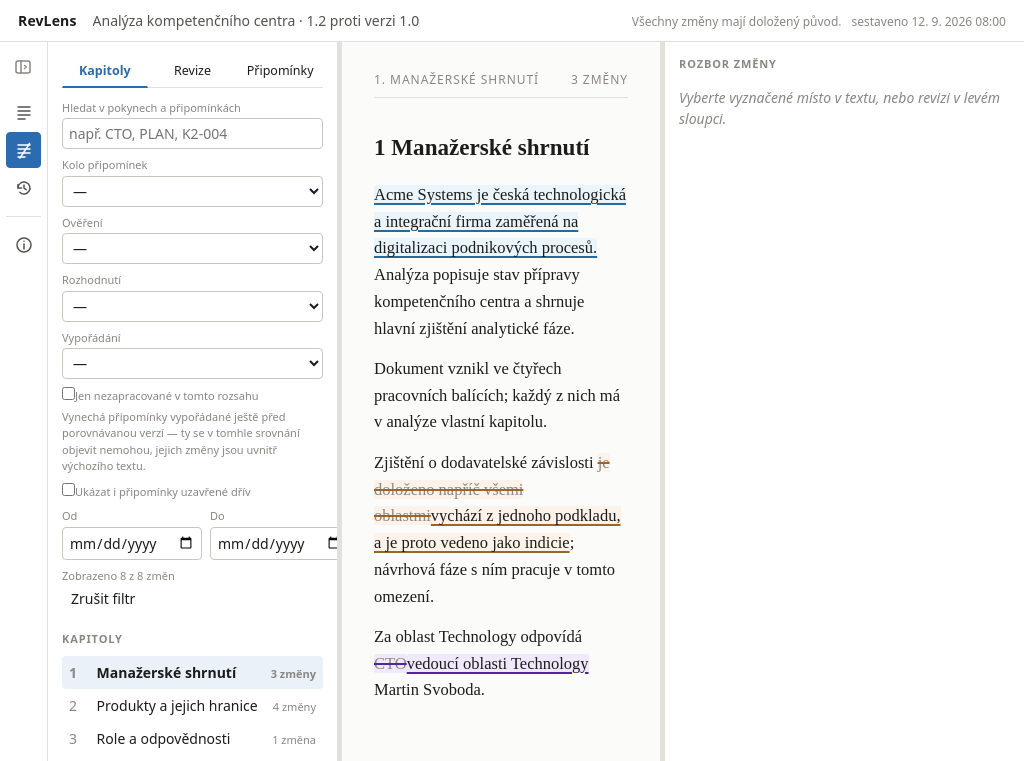
Test: browsing the review › opens a comment in the inspector, with its recorded resolution
The image size is (1024, 761).
Expected: the element showing "1 Manažerské shrnutí" is shown, x1=374 y1=134 x2=590 y2=160
Click the tab "Připomínky" at (280, 72), box x1=237 y1=56 x2=323 y2=88
(page scrolled)
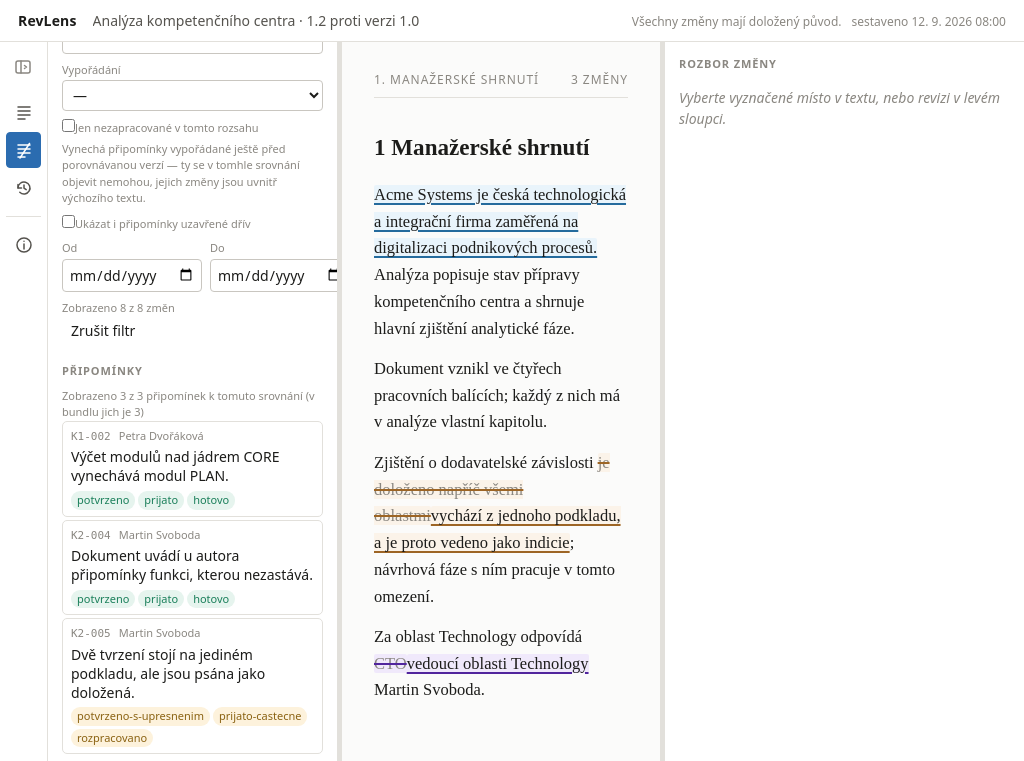
Now the button that starts with "K2-004" is shown
Click the button that starts with "K2-004" at (192, 567), box x1=62 y1=520 x2=323 y2=615
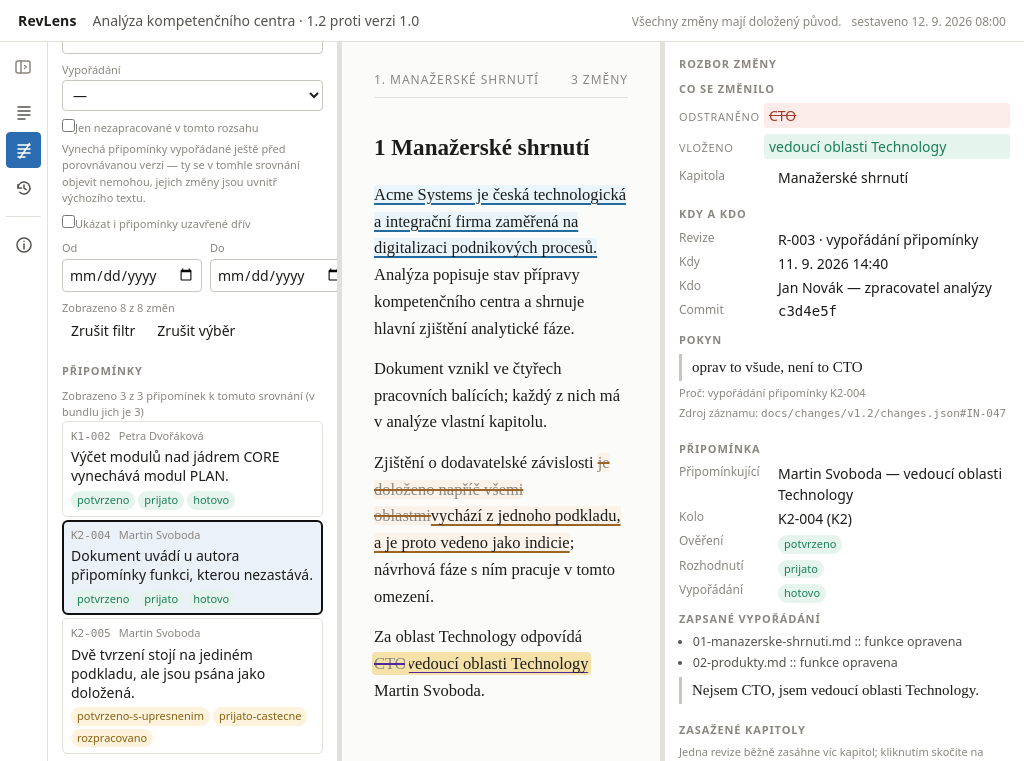
Now the heading "Zapsané vypořádání" is shown, box x1=679 y1=610 x2=821 y2=626
Now the number of list items "01-manazerske-shrnuti.md :: funkce opravena" is 2, box x1=693 y1=633 x2=962 y2=650; x1=693 y1=654 x2=898 y2=670
